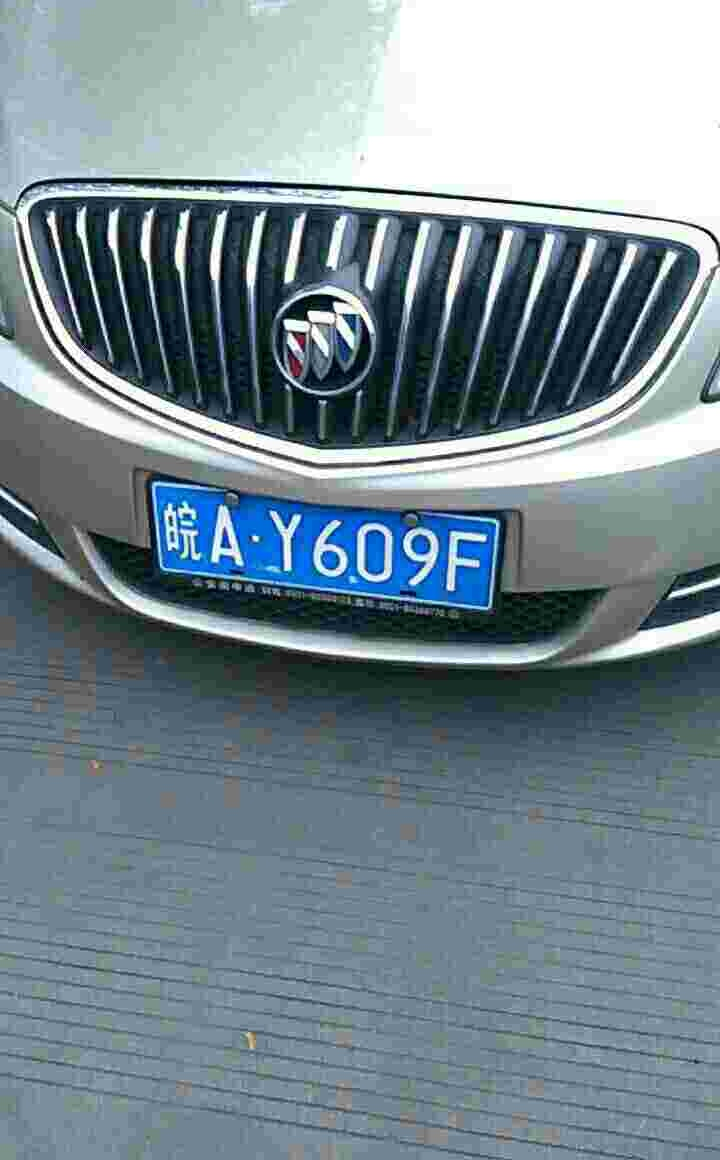license_plate: (152, 490, 504, 604)
